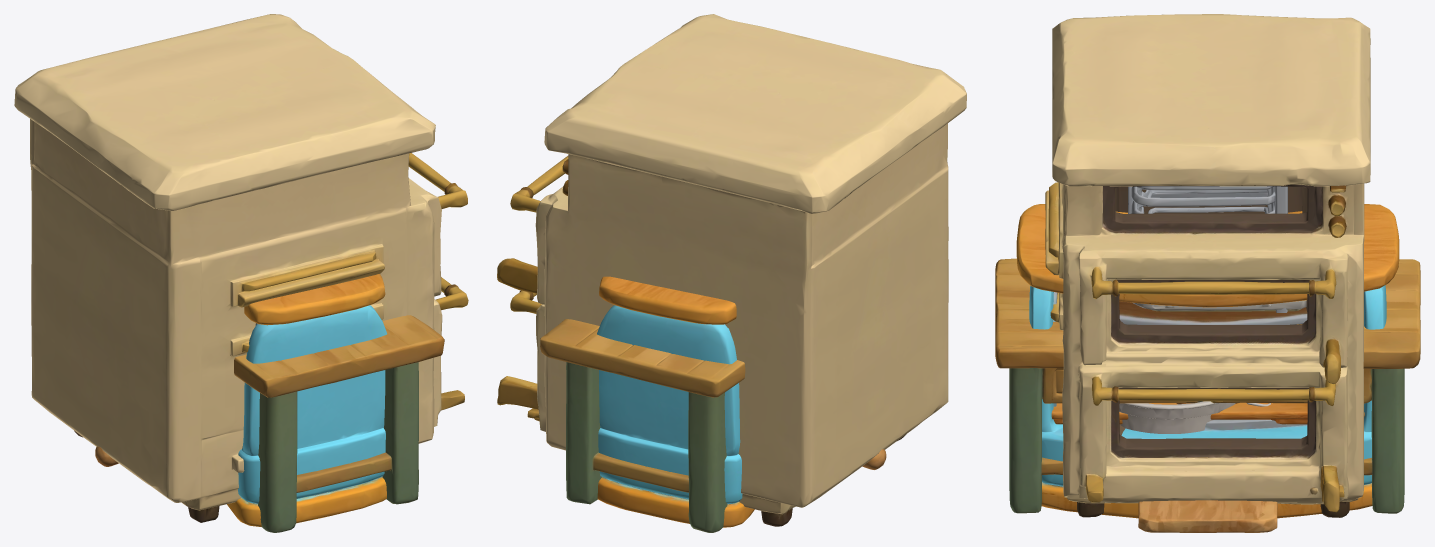
The model's file is boulangerie.glb.
The picture shows the model from 3 angles, left to right: view 1: azimuth 30°, elevation 25°; view 2: azimuth 150°, elevation 25°; view 3: azimuth 270°, elevation 25°; orthographic projection. The views are drawn at different scales.
Visible parts, largest first — view 1: four-pain, vitrine-patisserie, table-petrissage; view 2: four-pain, vitrine-patisserie, table-petrissage; view 3: four-pain, table-petrissage, vitrine-patisserie, pelle-enfourner, echelle-plaques, petrin, comptoir-caisse.
Boxes of the visible parts, x1,y1,x2,y2 form: four-pain: (14,14,468,522); vitrine-patisserie: (227,274,387,526); table-petrissage: (234,315,444,532); four-pain: (497,14,966,526); vitrine-patisserie: (597,276,754,527); table-petrissage: (540,319,745,532); four-pain: (1045,14,1370,517); table-petrissage: (995,258,1420,513); vitrine-patisserie: (1016,204,1399,518); pelle-enfourner: (1138,500,1277,532); echelle-plaques: (1128,186,1287,312); petrin: (1119,300,1306,433); comptoir-caisse: (1051,402,1364,424).
Bounding box in the file's own units: 1.94 × 2 × 2.
26 materials, 26 textured.
